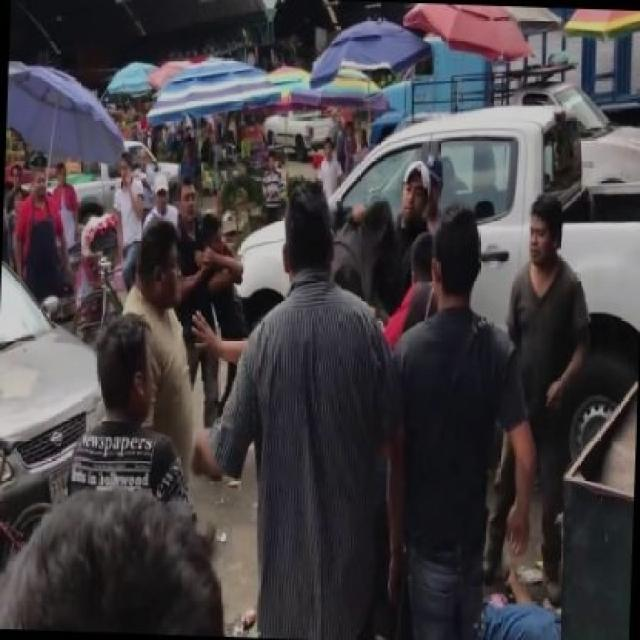fight: (172, 180, 251, 425)
non-fight: (195, 182, 402, 640), (387, 201, 535, 640), (503, 189, 595, 608), (115, 212, 223, 492), (60, 313, 194, 525)
